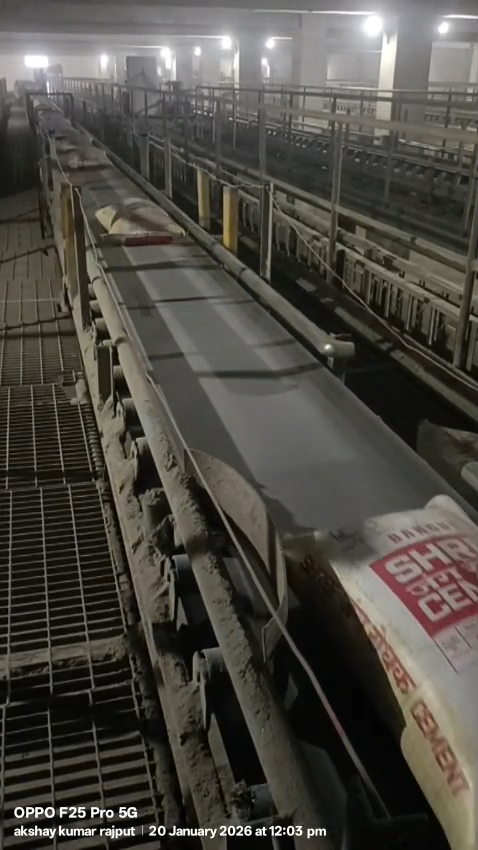Bag: (292, 501, 478, 842), (89, 196, 182, 246)
Printed: (314, 533, 478, 652), (379, 652, 478, 793)
